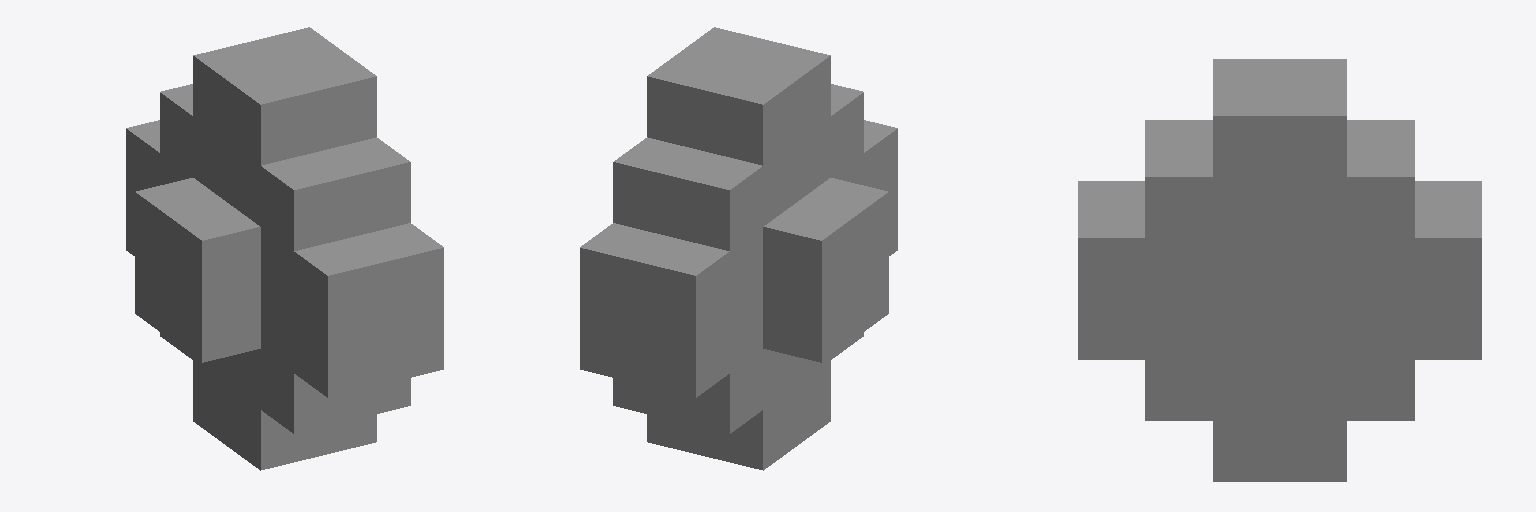
Rendered from WheelBR.obj.
3 views of the same model, side by side, from view 1: azimuth 30°, elevation 25°; view 2: azimuth 150°, elevation 25°; view 3: azimuth 270°, elevation 25° (orthographic).
Parts seen in each view (by area): view 1: WheelBR; view 2: WheelBR; view 3: WheelBR.
Part boxes in pixels (x1,y1,x2,y2): WheelBR: (126, 27, 443, 470); WheelBR: (580, 27, 897, 470); WheelBR: (1078, 59, 1481, 481).
Size of the model in its own units: 0.3 by 0.6 by 0.6.